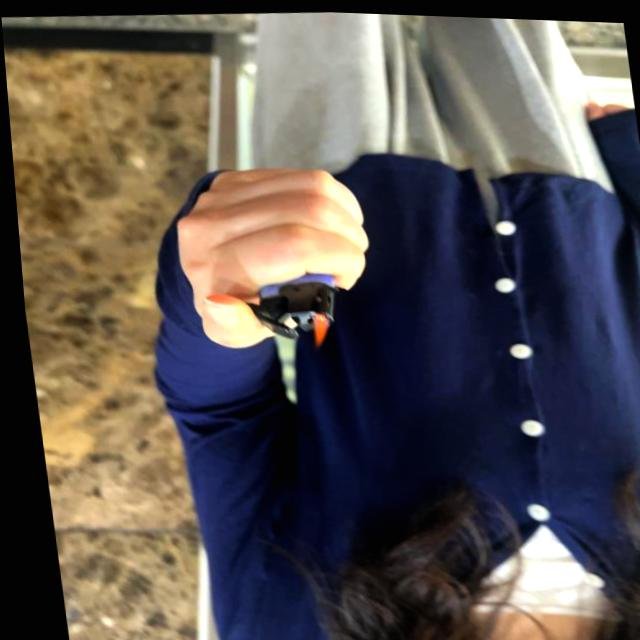helmet: (299, 310, 329, 347)
